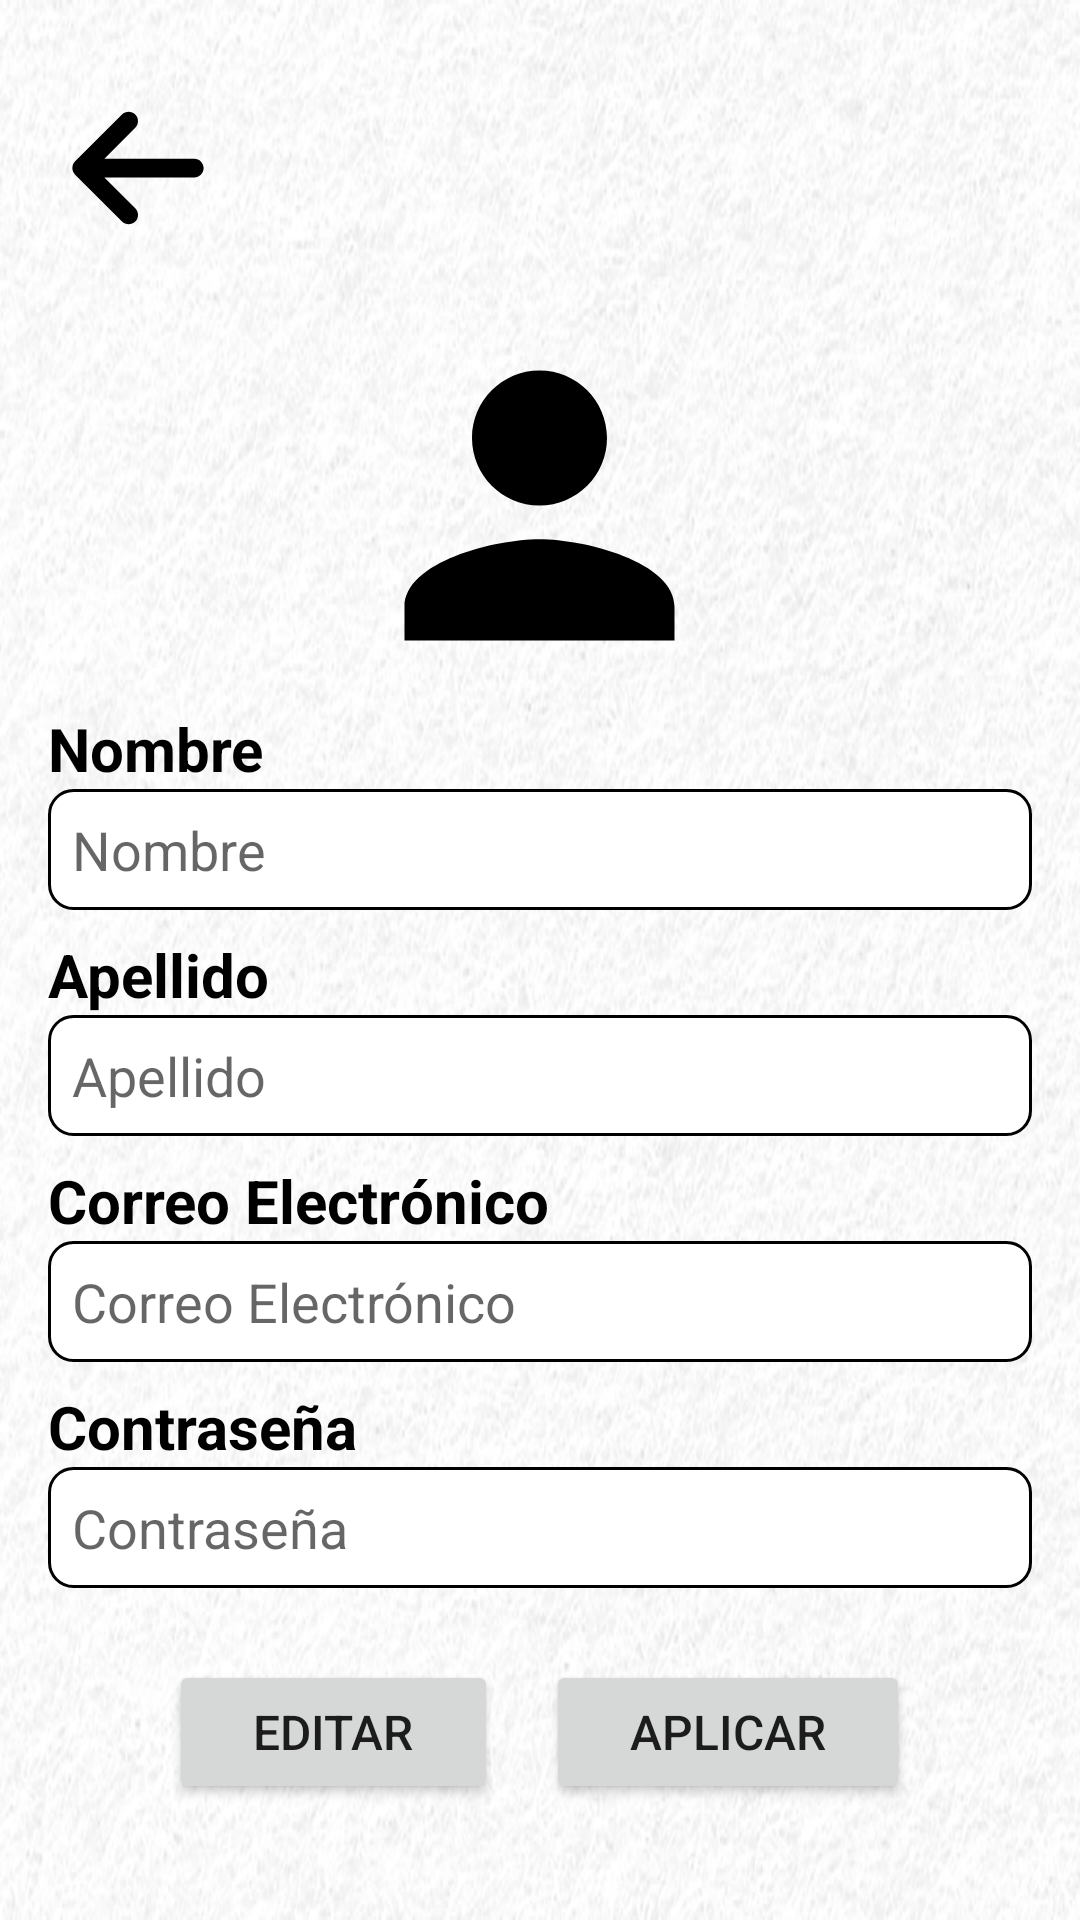

Where to tap for icons on this 1080px×1920px app screen, as [x,y]:
Botón de retroceso: [138,168]
